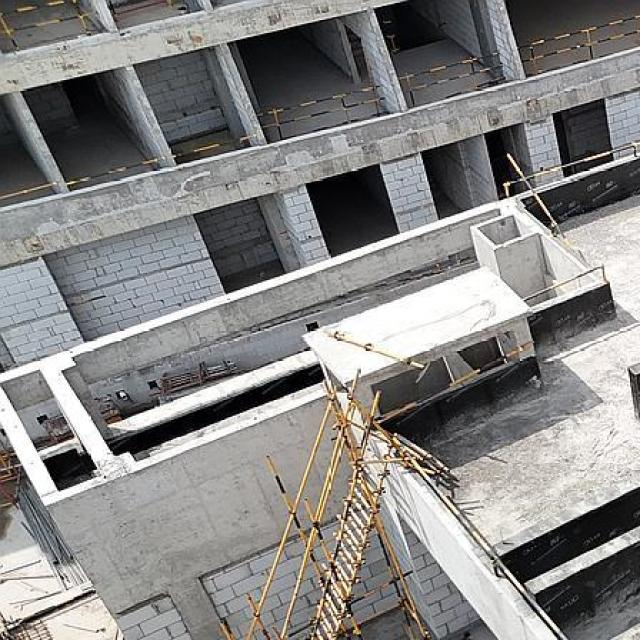edge_guardrail: (390, 435, 572, 640), (373, 338, 536, 426), (501, 138, 640, 228), (518, 12, 640, 78), (256, 84, 385, 140), (398, 52, 506, 111), (505, 152, 571, 247), (0, 0, 97, 51), (523, 264, 606, 302), (65, 156, 162, 188), (172, 134, 248, 160), (1, 182, 54, 207)
